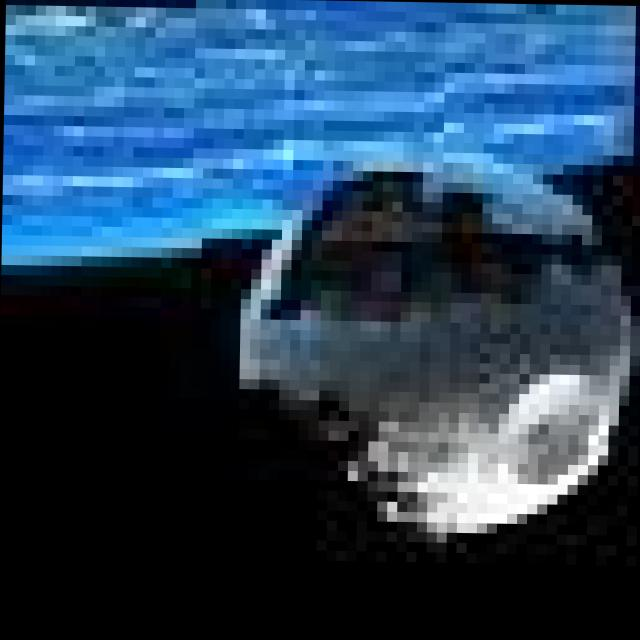Death Star: (216, 138, 633, 546)
